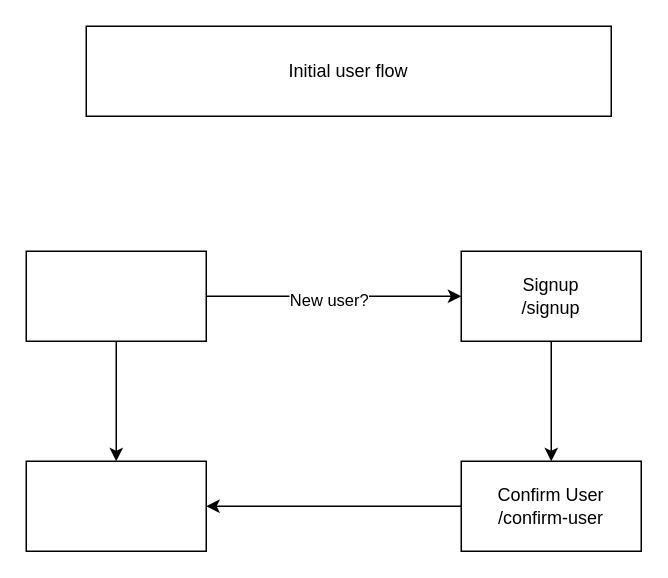
Image size: 668x578. Some labels were removed from this diagram. Here are the shapes that lost their labels. From the top down, the box of each, then its label:
(25, 250, 206, 341): Login /login
(25, 460, 206, 551): Input Form /form
